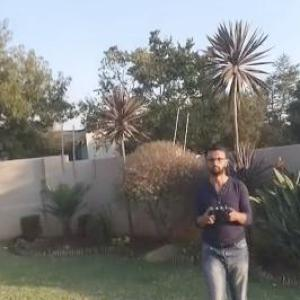follow: (187, 123, 256, 299)
